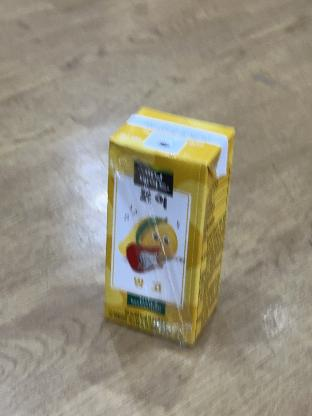Others: (104, 102, 232, 346)
